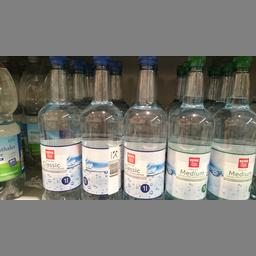water: (74, 56, 121, 199), (166, 56, 212, 199), (122, 56, 167, 198), (36, 55, 78, 199), (212, 56, 254, 199)
